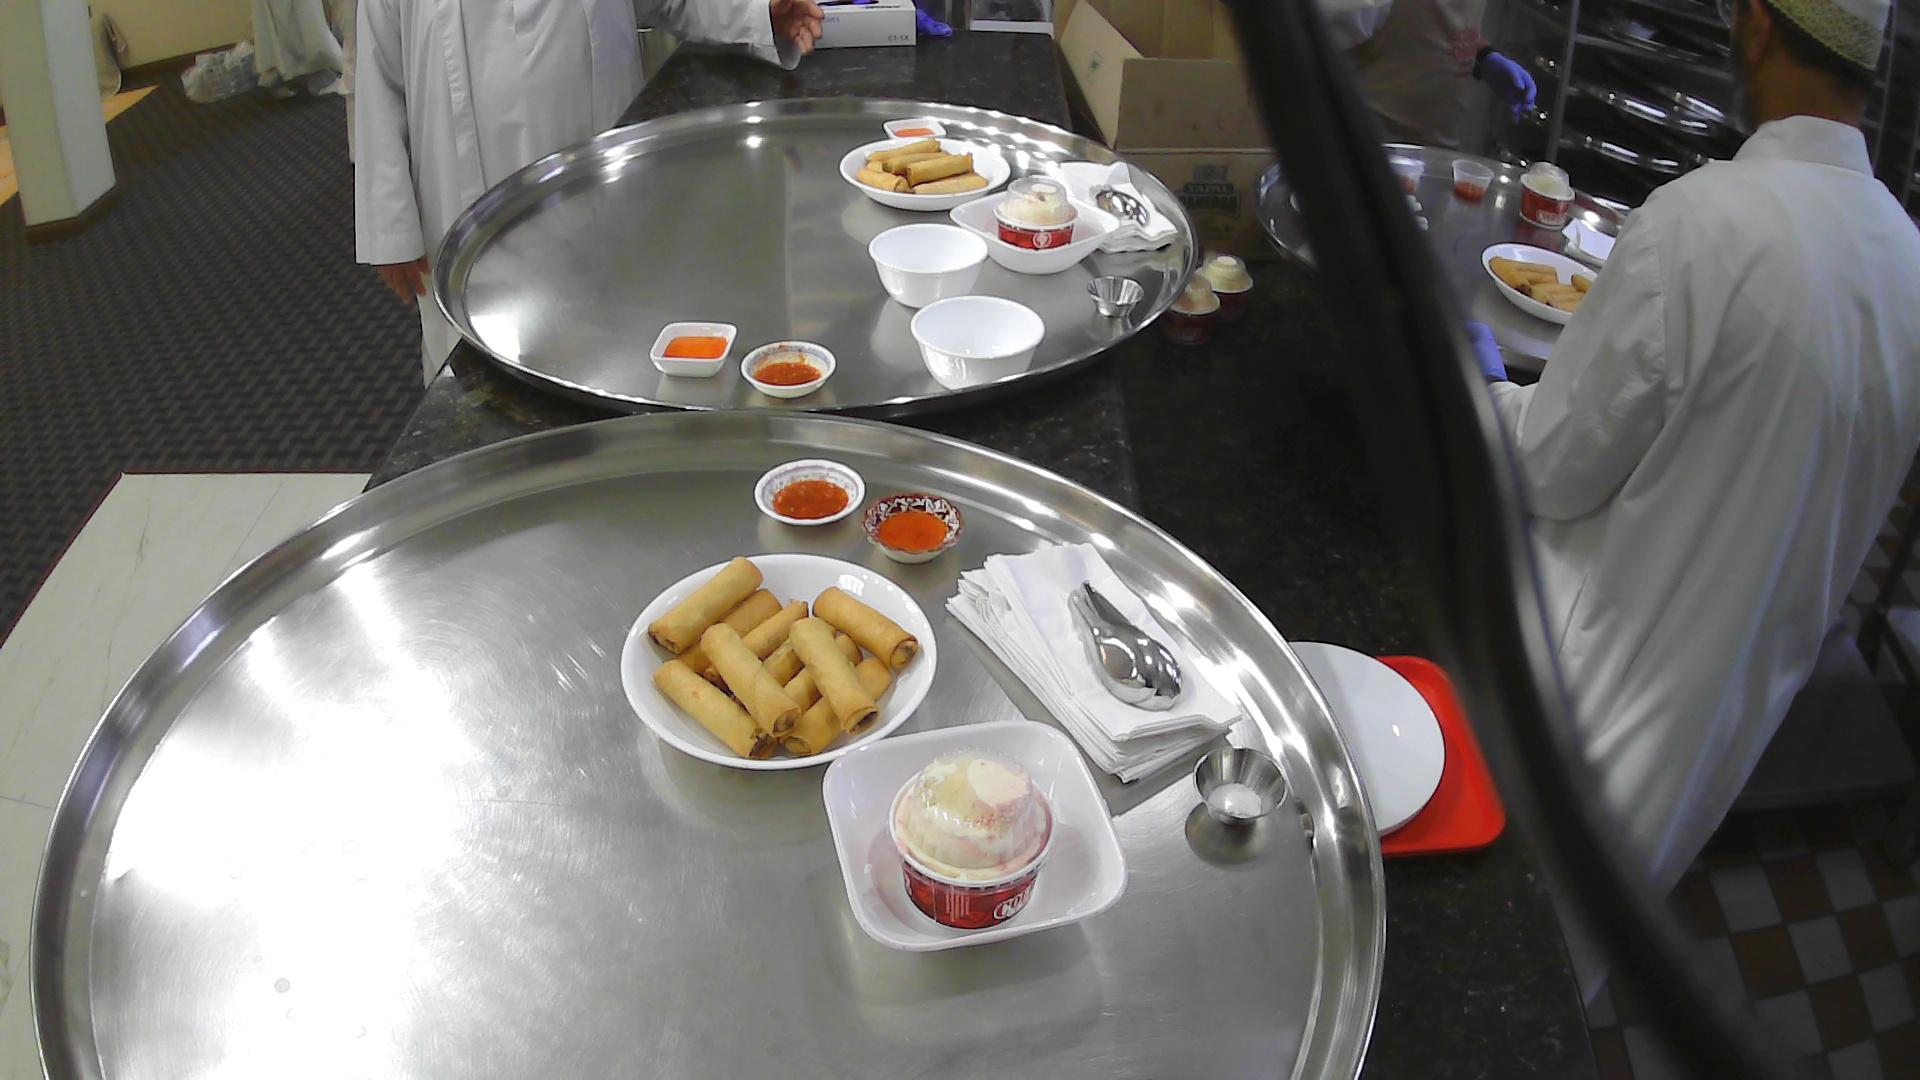thaal: (0, 398, 1389, 1080), (428, 88, 1200, 428), (1252, 128, 1664, 376)
